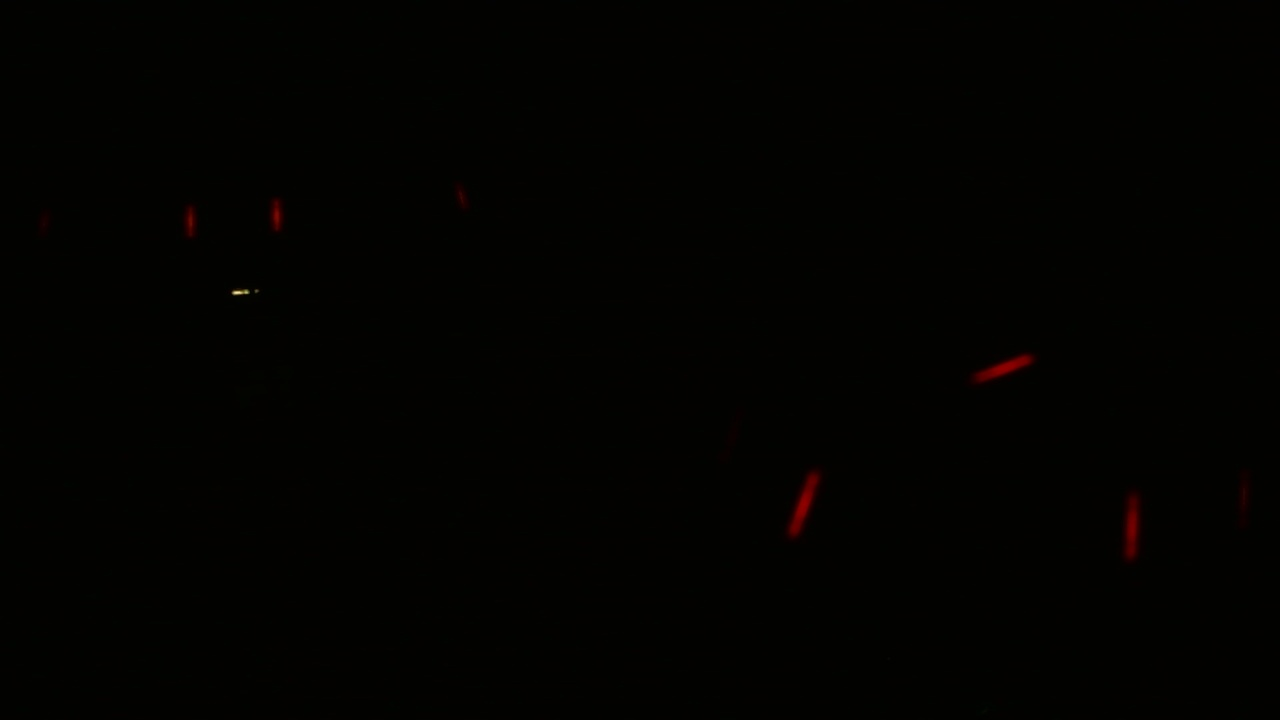pair1: (722, 415, 819, 534), (173, 196, 293, 245)
